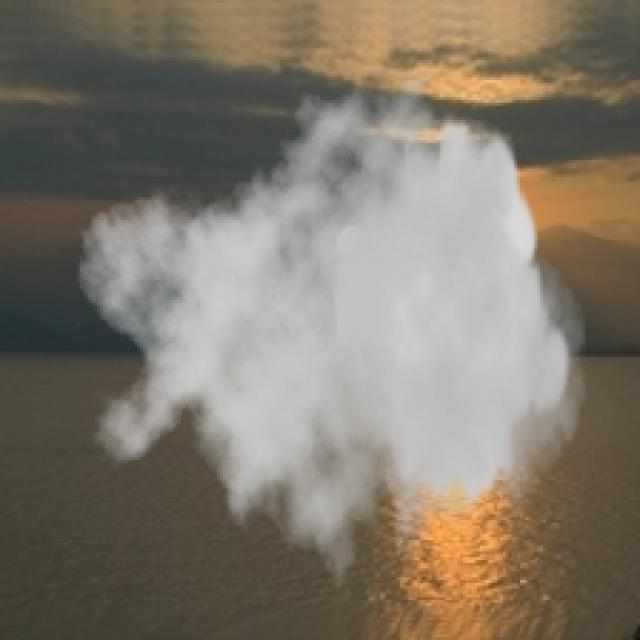smoke: (74, 63, 589, 611)
